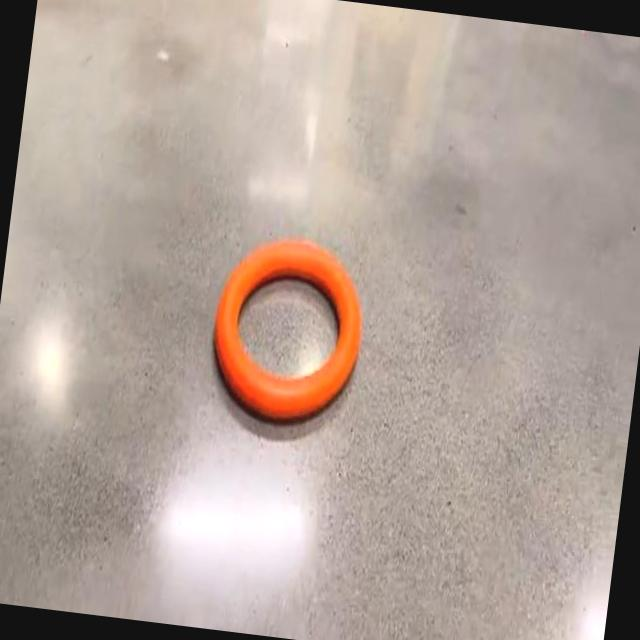note: (214, 239, 361, 418)
